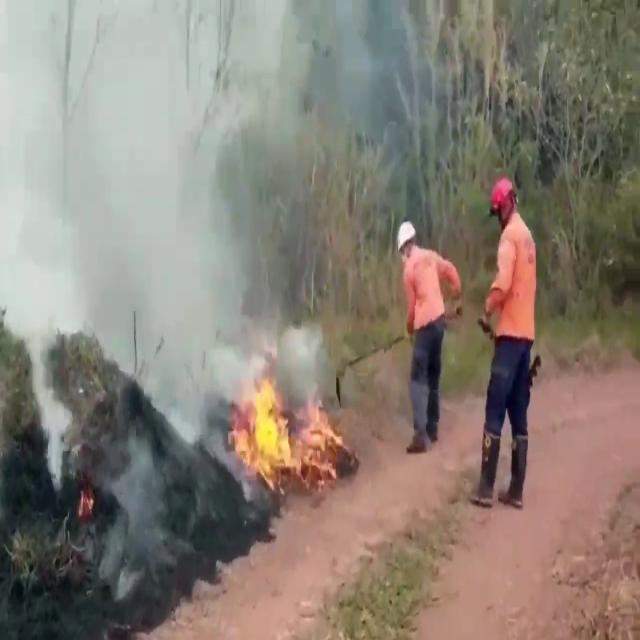Fire: (226, 358, 344, 489)
Smoke: (0, 0, 301, 419), (92, 414, 172, 600)
